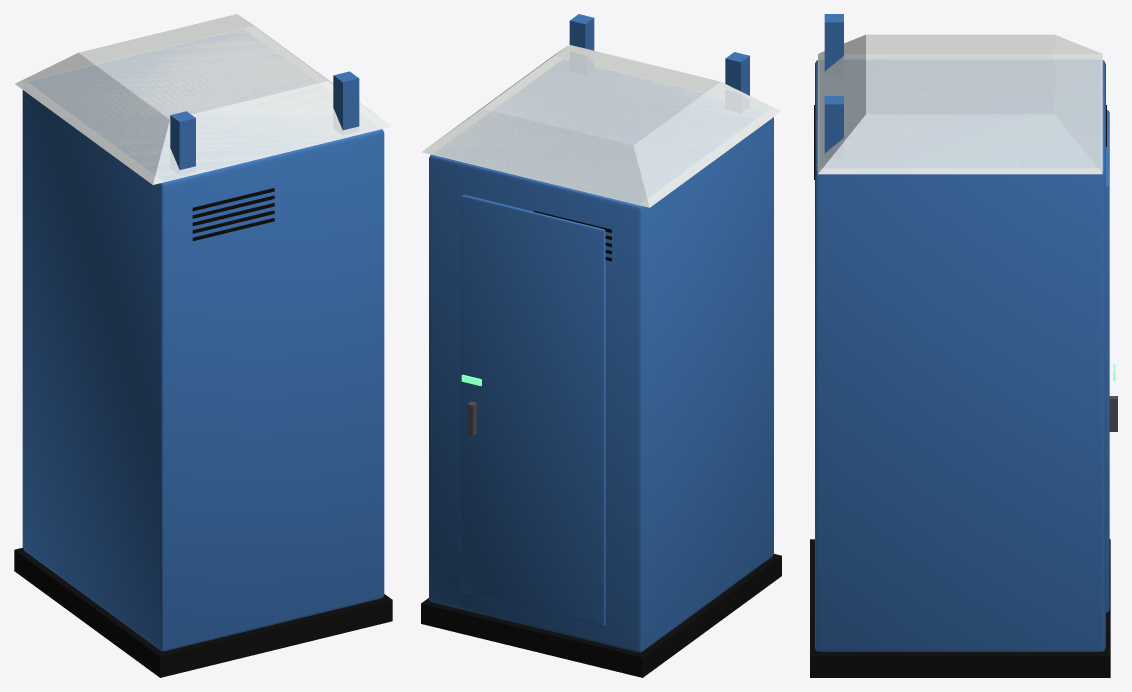
Rendered from portable_toilet.gltf.
The picture shows the model from 3 angles, left to right: view 1: azimuth 30°, elevation 25°; view 2: azimuth 150°, elevation 25°; view 3: azimuth 270°, elevation 25°; orthographic projection. The views are drawn at different scales.
Visible parts, largest first — view 1: portable_toilet; view 2: portable_toilet; view 3: portable_toilet.
Boxes of the visible parts, left/top/right/bottom form: portable_toilet: left=14, top=14, right=392, bottom=677; portable_toilet: left=421, top=14, right=781, bottom=677; portable_toilet: left=810, top=14, right=1117, bottom=677.
Size of the model in its own units: 1.17 by 2.55 by 1.27.
5 materials, 2 textured.
